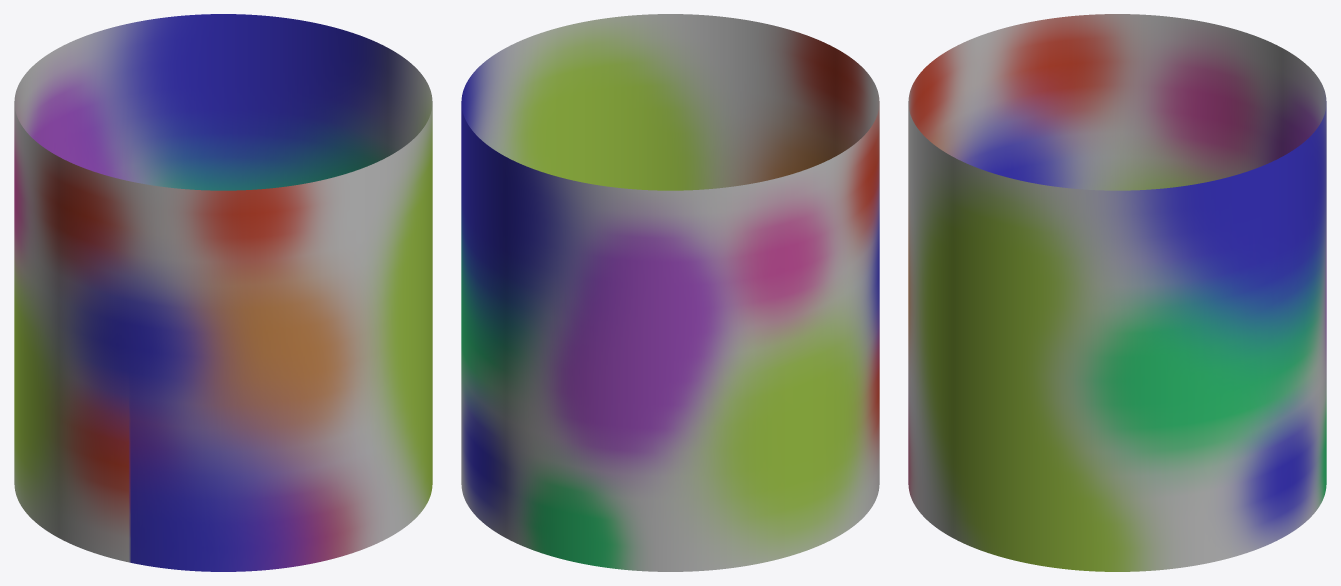
Rendered from 16kcyl.obj.
3 views of the same model, side by side, from view 1: azimuth 30°, elevation 25°; view 2: azimuth 150°, elevation 25°; view 3: azimuth 270°, elevation 25° (orthographic).
Visible parts, largest first — view 1: Cylinder; view 2: Cylinder; view 3: Cylinder.
Boxes of the visible parts, box(x1,y1,x2,y2) form: Cylinder: box(14, 14, 432, 571); Cylinder: box(461, 14, 879, 571); Cylinder: box(908, 14, 1326, 571).
Size of the model in its own units: 1.99 by 2 by 1.99.
